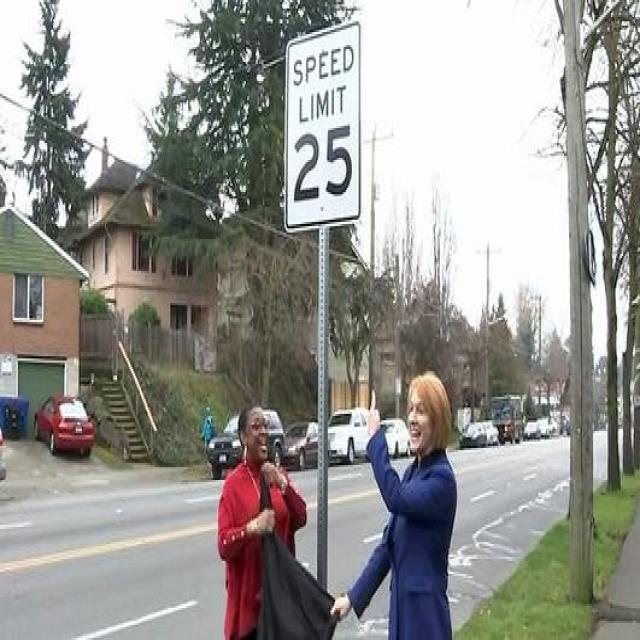speedLimit25: (286, 20, 356, 236)
